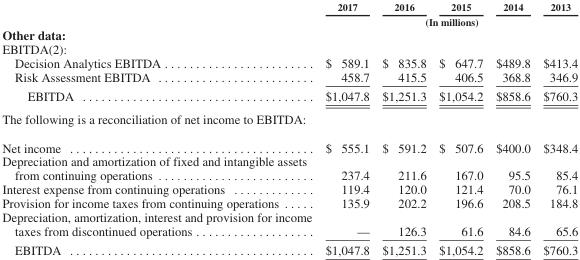table: (1, 0, 577, 256)
table column: (1, 0, 318, 256), (318, 0, 375, 256), (375, 0, 432, 256), (432, 0, 488, 256), (488, 0, 536, 256), (536, 0, 577, 256)
table column header: (1, 0, 577, 27)
table projected row header: (1, 106, 577, 132), (1, 27, 577, 41), (1, 41, 577, 55)
table row: (1, 209, 577, 240), (1, 154, 577, 182), (1, 106, 577, 132), (1, 132, 577, 154), (1, 86, 577, 106), (1, 69, 577, 86), (1, 240, 577, 256), (1, 0, 577, 14), (1, 27, 577, 41), (1, 41, 577, 55), (1, 55, 577, 69), (1, 195, 577, 209), (1, 14, 577, 27), (1, 182, 577, 195)
table spanning cell: (318, 14, 577, 27)
